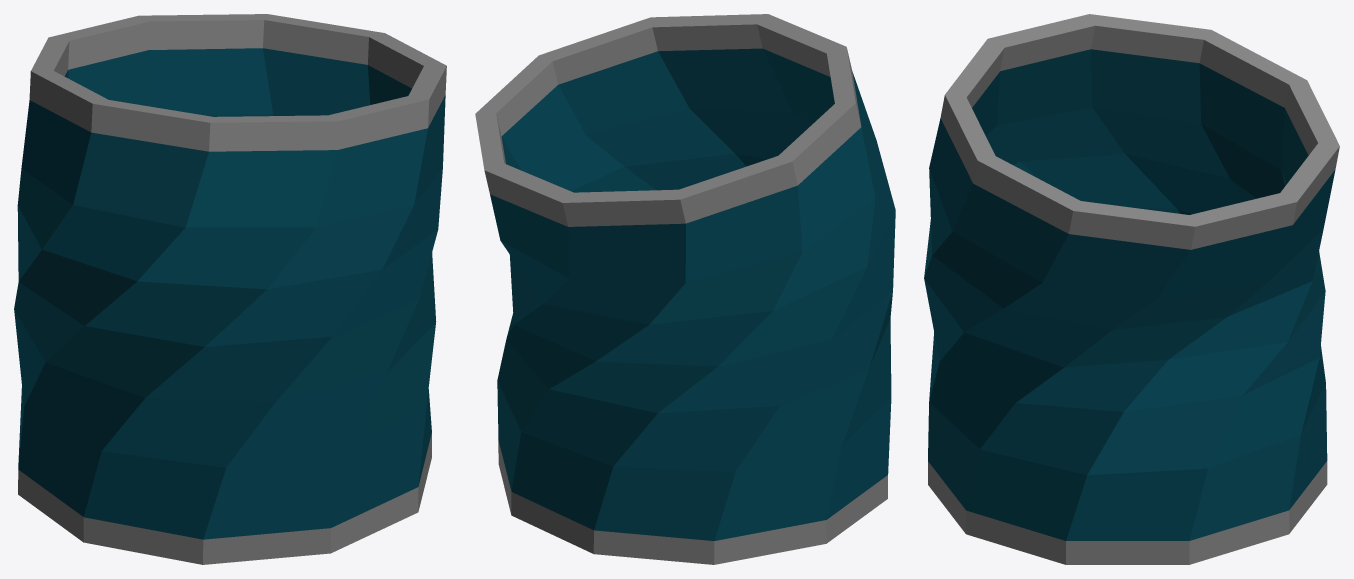
File: can3.fbx
The picture shows the model from 3 angles, left to right: view 1: azimuth 30°, elevation 25°; view 2: azimuth 150°, elevation 25°; view 3: azimuth 270°, elevation 25°; orthographic projection. The views are drawn at different scales.
Visible parts, largest first — view 1: Cylinder.004; view 2: Cylinder.004; view 3: Cylinder.004.
Boxes of the visible parts, left/top/right/bottom form: Cylinder.004: left=14, top=14, right=446, bottom=564; Cylinder.004: left=475, top=14, right=895, bottom=564; Cylinder.004: left=924, top=14, right=1339, bottom=564.
Bounding box in the file's own units: 207 × 224 × 208.
